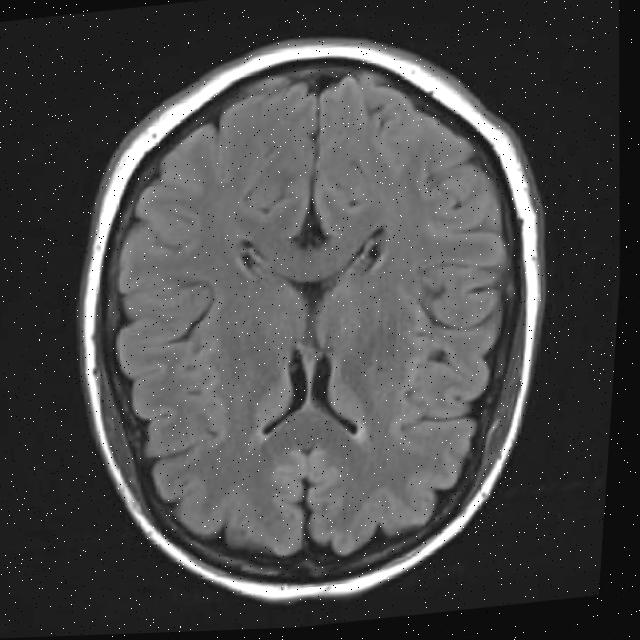NoTumor: (36, 10, 587, 632)
